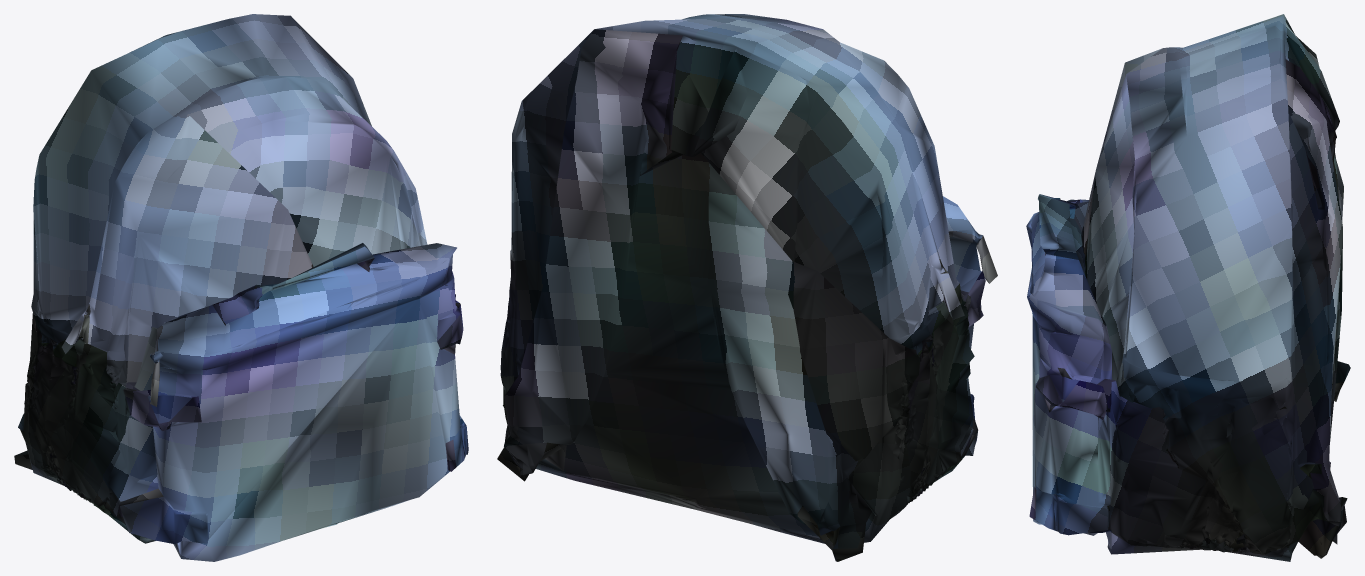
The model's file is Olive_Kids_Trains_Planes_Trucks_Bogo_Backpack-low.glb.
3 views of the same model, side by side, from view 1: azimuth 30°, elevation 25°; view 2: azimuth 150°, elevation 25°; view 3: azimuth 270°, elevation 25° (orthographic). The views are drawn at different scales.
Visible parts, largest first — view 1: Olive_Kids_Trains_Planes_Trucks_Bogo_Backpack; view 2: Olive_Kids_Trains_Planes_Trucks_Bogo_Backpack; view 3: Olive_Kids_Trains_Planes_Trucks_Bogo_Backpack.
Boxes of the visible parts, left/top/right/bottom form: Olive_Kids_Trains_Planes_Trucks_Bogo_Backpack: left=14, top=14, right=468, bottom=561; Olive_Kids_Trains_Planes_Trucks_Bogo_Backpack: left=497, top=14, right=997, bottom=561; Olive_Kids_Trains_Planes_Trucks_Bogo_Backpack: left=1026, top=14, right=1350, bottom=561.
Bounding box in the file's own units: 0.342 × 0.3724 × 0.2467.
1 material, 1 textured.
